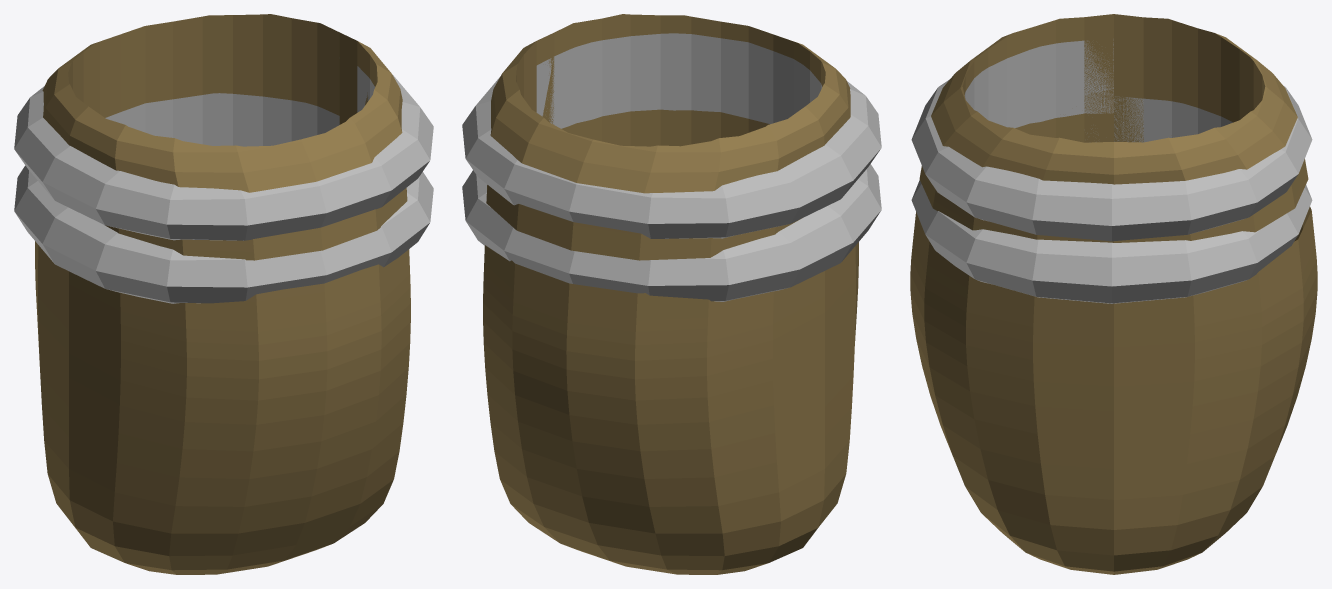
The model's file is barril.fbx.
3 views of the same model, side by side, from view 1: azimuth 30°, elevation 25°; view 2: azimuth 150°, elevation 25°; view 3: azimuth 270°, elevation 25° (orthographic). The views are drawn at different scales.
Visible parts, largest first — view 1: Cube, Cube.002, Cube.001; view 2: Cube, Cube.001, Cube.002; view 3: Cube, Cube.001, Cube.002.
Part boxes in pixels (<box>): Cube: <box>35,14,410,574</box>; Cube.002: <box>14,93,433,303</box>; Cube.001: <box>14,66,433,240</box>; Cube: <box>483,14,858,574</box>; Cube.001: <box>462,33,881,238</box>; Cube.002: <box>462,164,881,301</box>; Cube: <box>910,14,1317,574</box>; Cube.001: <box>911,39,1312,241</box>; Cube.002: <box>911,96,1312,303</box>.
Size of the model in its own units: 216 by 270 by 215.
